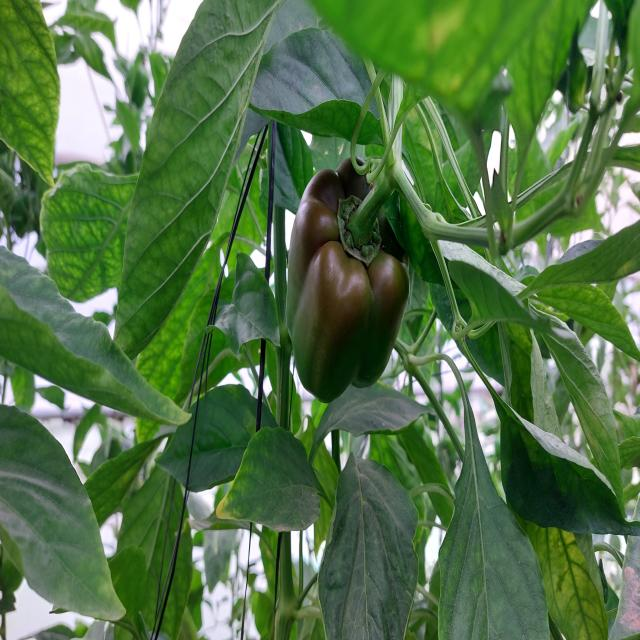BrownishRed--Can-be-Harvested: (280, 165, 411, 403)
